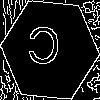C: (25, 25, 62, 75)
